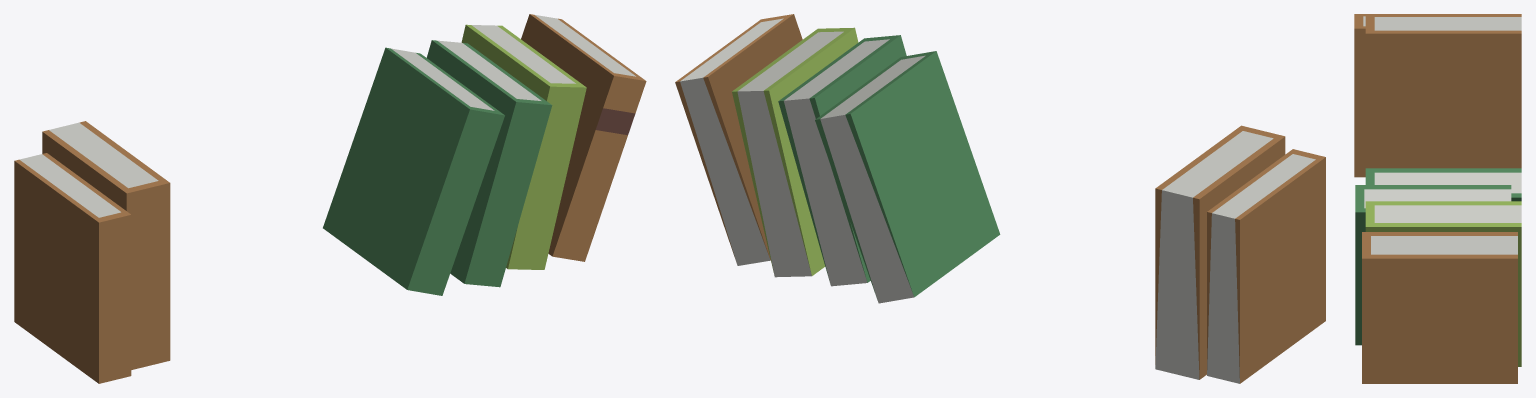
File: Book_01.FBX
3 views of the same model, side by side, from view 1: azimuth 30°, elevation 25°; view 2: azimuth 150°, elevation 25°; view 3: azimuth 270°, elevation 25° (orthographic). The views are drawn at different scales.
Parts seen in each view (by area): view 1: Book_01; view 2: Book_01; view 3: Book_01.
Part boxes in pixels (x1,y1,x2,y2): Book_01: (14, 14, 646, 383); Book_01: (675, 14, 1325, 383); Book_01: (1354, 14, 1521, 383).
Size of the model in its own units: 90.59 by 28.73 by 25.76.
